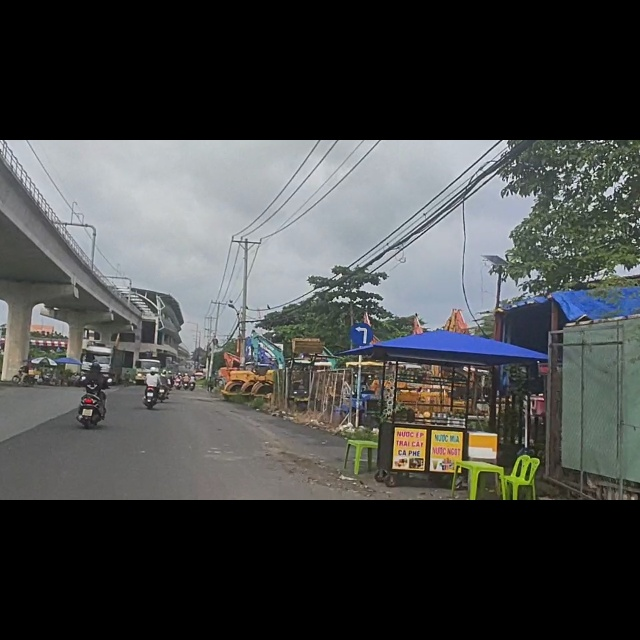bien_chi_dan: (349, 322, 374, 367)
